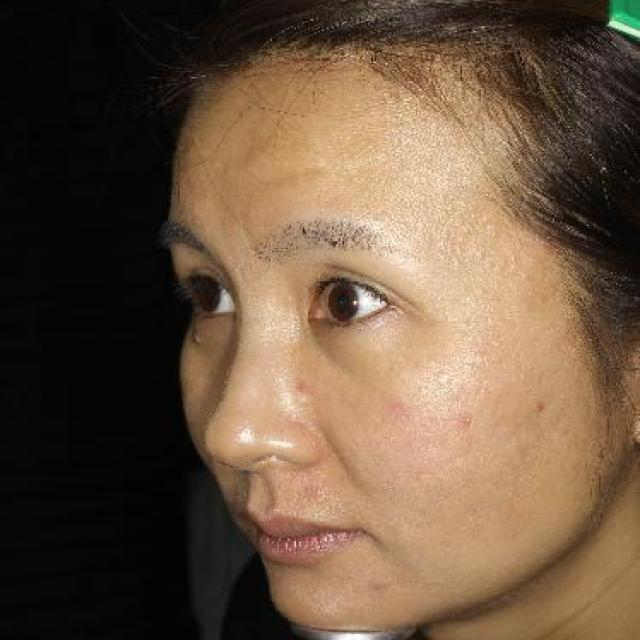dark spot: (364, 577, 394, 595), (457, 409, 482, 429), (529, 397, 549, 415), (292, 375, 310, 394)
papules: (188, 329, 209, 349), (231, 492, 265, 494)
